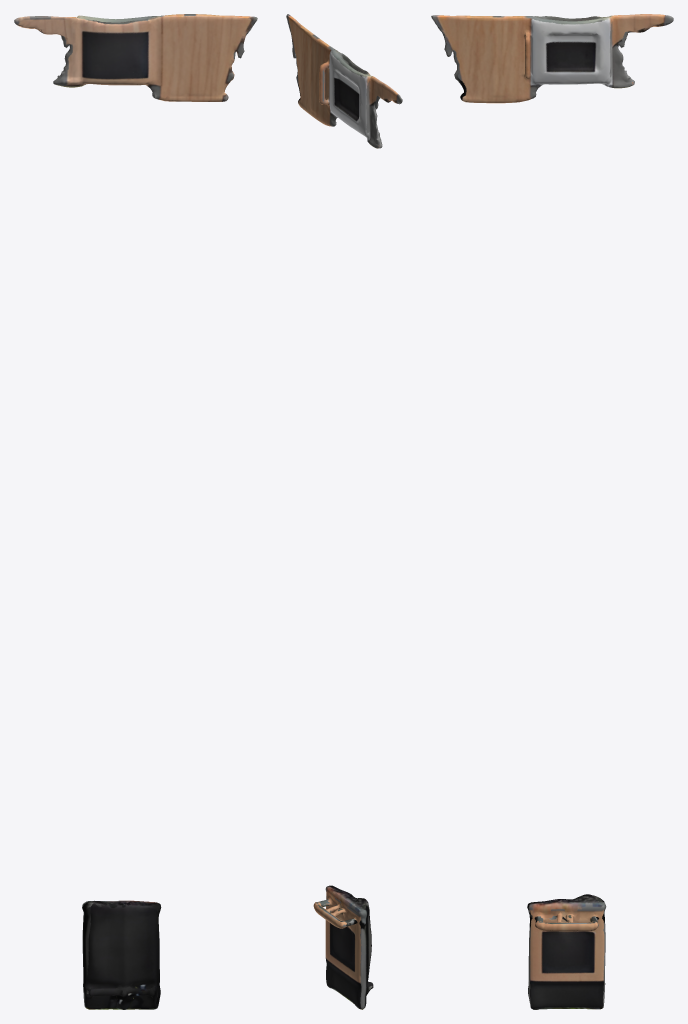
The model's file is kitchen_1035.glb.
3 views of the same model, side by side, from view 1: azimuth 90°, elevation 25°; view 2: azimuth 210°, elevation 25°; view 3: azimuth 270°, elevation 25° (orthographic). The views are drawn at different scales.
Visible parts, largest first — view 1: tripo_node_ee98c11a-371a-46ba-9ae8-0fe1bf191f69; view 2: tripo_node_ee98c11a-371a-46ba-9ae8-0fe1bf191f69; view 3: tripo_node_ee98c11a-371a-46ba-9ae8-0fe1bf191f69.
Boxes of the visible parts, x1,y1,x2,y2 form: tripo_node_ee98c11a-371a-46ba-9ae8-0fe1bf191f69: [14, 14, 257, 1009]; tripo_node_ee98c11a-371a-46ba-9ae8-0fe1bf191f69: [286, 14, 402, 1009]; tripo_node_ee98c11a-371a-46ba-9ae8-0fe1bf191f69: [431, 14, 673, 1009].
Bounding box in the file's own units: 0.0399 × 1 × 0.2215.
Materials: 1 (1 with a texture image).
